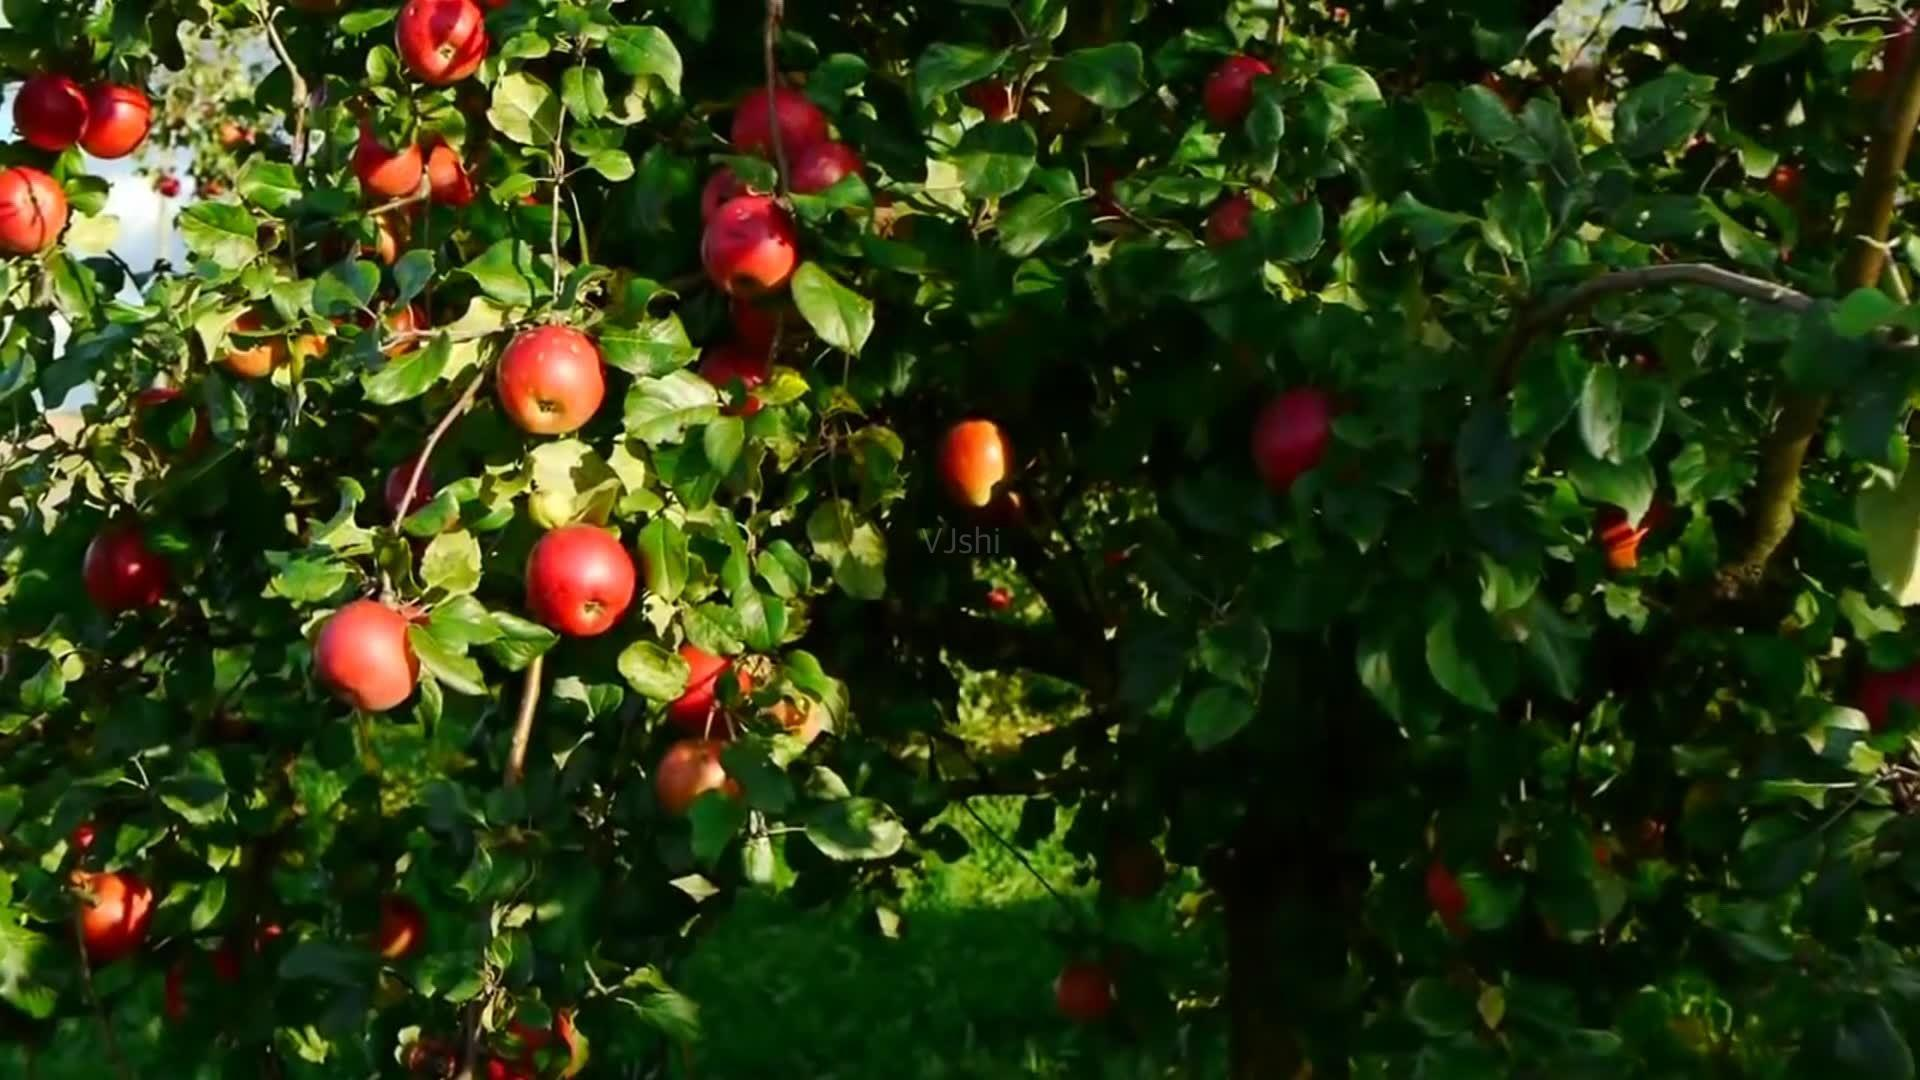apple: (524, 527, 638, 641), (496, 324, 607, 440), (313, 603, 422, 715), (703, 187, 802, 299), (1250, 389, 1329, 495), (396, 1, 487, 88), (728, 88, 827, 166), (82, 531, 171, 617), (654, 741, 736, 819), (1, 167, 70, 258), (1203, 55, 1275, 133), (78, 876, 152, 947), (353, 137, 429, 204), (786, 142, 865, 196), (1592, 504, 1650, 576), (1054, 967, 1116, 1026), (425, 146, 477, 210), (1205, 190, 1254, 247), (960, 80, 1015, 125)
